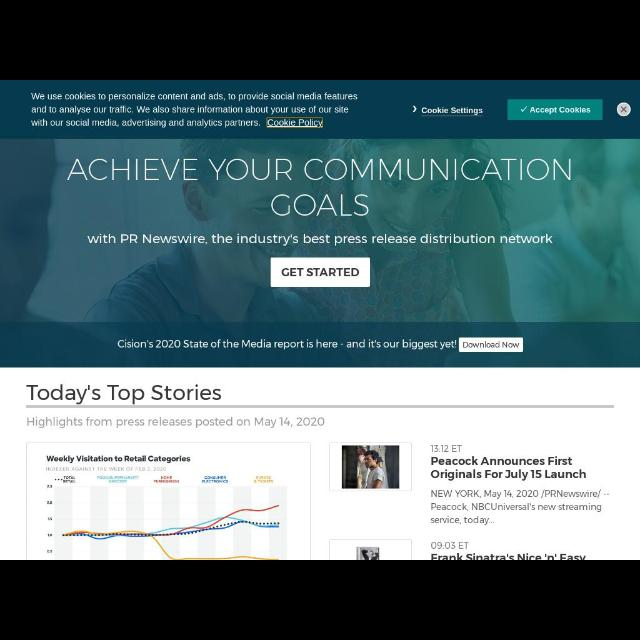backgroundimage: (1, 138, 639, 366)
button: (616, 102, 630, 118)
icon: (520, 105, 526, 113), (620, 107, 628, 113), (412, 104, 416, 114)
image: (28, 445, 310, 559), (341, 445, 401, 489), (356, 546, 378, 560)
text: (69, 159, 572, 217), (30, 92, 358, 128), (431, 491, 609, 525), (87, 233, 553, 245), (27, 384, 220, 404), (432, 456, 586, 480), (117, 339, 457, 349), (27, 418, 324, 428), (282, 266, 360, 280), (431, 552, 587, 558), (422, 106, 483, 116), (530, 105, 590, 115), (462, 342, 518, 348), (431, 443, 462, 453), (430, 541, 468, 549)
textbutton: (272, 258, 371, 286), (508, 100, 602, 120), (458, 338, 522, 352)
